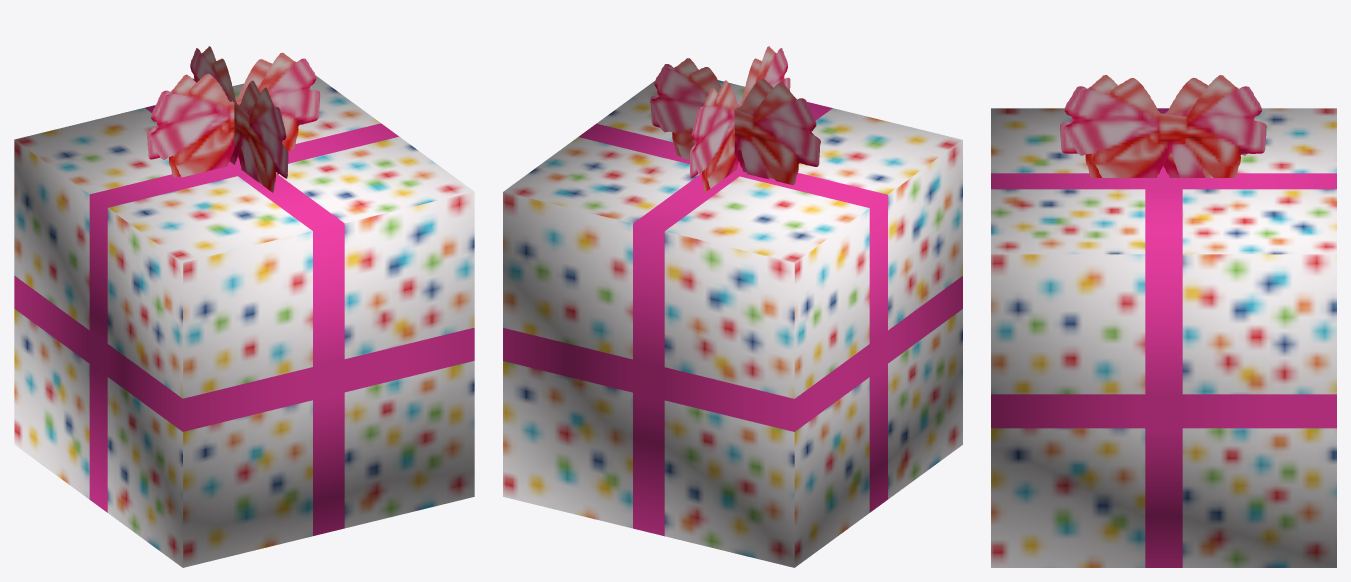
The model's file is gift_1.FBX.
3 views of the same model, side by side, from view 1: azimuth 30°, elevation 25°; view 2: azimuth 150°, elevation 25°; view 3: azimuth 270°, elevation 25° (orthographic). The views are drawn at different scales.
Parts seen in each view (by area): view 1: gift_1; view 2: gift_1; view 3: gift_1.
Boxes of the visible parts, bbox=[...] form: gift_1: bbox=[14, 46, 474, 567]; gift_1: bbox=[503, 46, 962, 567]; gift_1: bbox=[991, 75, 1336, 567].
Bounding box in the file's own units: 42.58 × 57.71 × 42.58.
